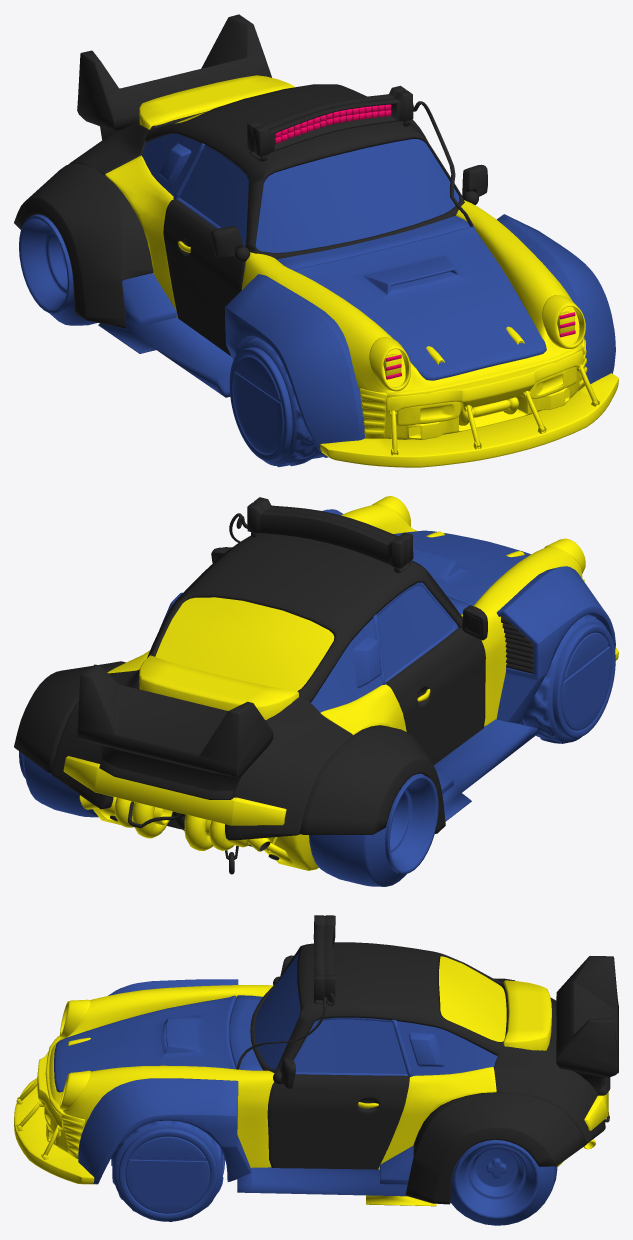
File: MS_Vehicle_CyberCar01.fbx
The picture shows the model from 3 angles, top to bottom: view 1: azimuth 30°, elevation 25°; view 2: azimuth 150°, elevation 25°; view 3: azimuth 270°, elevation 25°; orthographic projection. The views are drawn at different scales.
Visible parts, largest first — view 1: MS_Vehicle_CyberCar01_SWindow, MS_Vehicle_CyberCar01_Roof, MS_Vehicle_CyberCar01_BWindow, MS_Vehicle_CyberCar01_Light; view 2: MS_Vehicle_CyberCar01_Roof, MS_Vehicle_CyberCar01_SWindow, MS_Vehicle_CyberCar01_BWindow; view 3: MS_Vehicle_CyberCar01_SWindow, MS_Vehicle_CyberCar01_Roof, MS_Vehicle_CyberCar01_BWindow.
Boxes of the visible parts, x1=… form: MS_Vehicle_CyberCar01_SWindow: x1=19, y1=133, x2=615, y2=467; MS_Vehicle_CyberCar01_Roof: x1=14, y1=14, x2=487, y2=387; MS_Vehicle_CyberCar01_BWindow: x1=105, y1=75, x2=618, y2=467; MS_Vehicle_CyberCar01_Light: x1=275, y1=104, x2=575, y2=379; MS_Vehicle_CyberCar01_Roof: x1=14, y1=497, x2=533, y2=874; MS_Vehicle_CyberCar01_SWindow: x1=19, y1=509, x2=615, y2=886; MS_Vehicle_CyberCar01_BWindow: x1=63, y1=496, x2=618, y2=870; MS_Vehicle_CyberCar01_SWindow: x1=54, y1=952, x2=557, y2=1225; MS_Vehicle_CyberCar01_Roof: x1=111, y1=915, x2=618, y2=1204; MS_Vehicle_CyberCar01_BWindow: x1=14, y1=956, x2=608, y2=1206.
Size of the model in its own units: 259 by 169 by 433.
